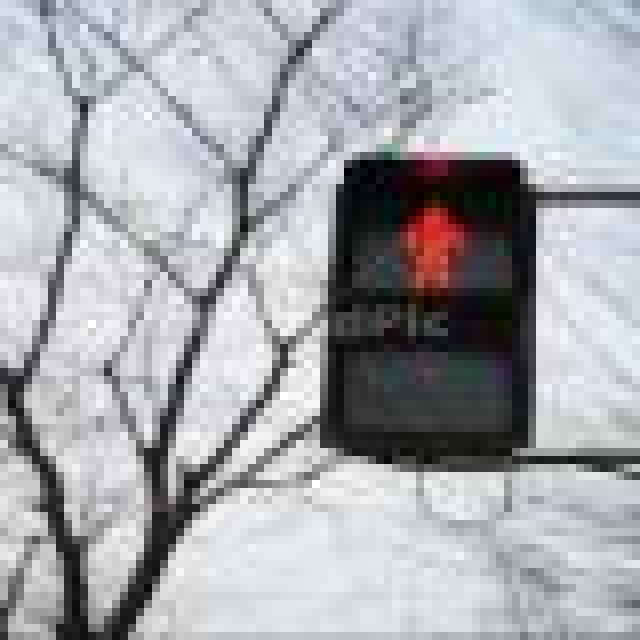redlight: (312, 160, 544, 480)
